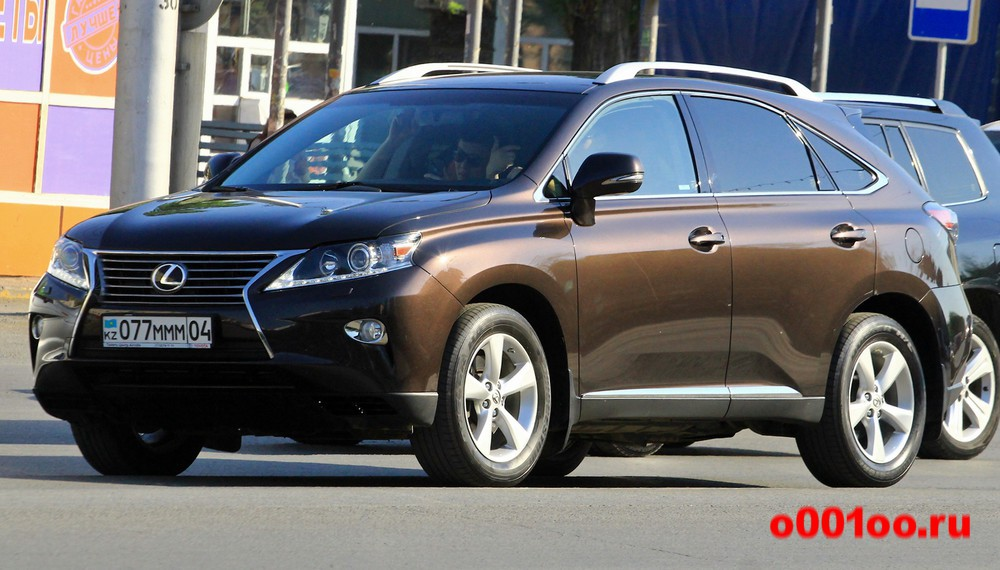license_plate: (102, 313, 217, 348)
